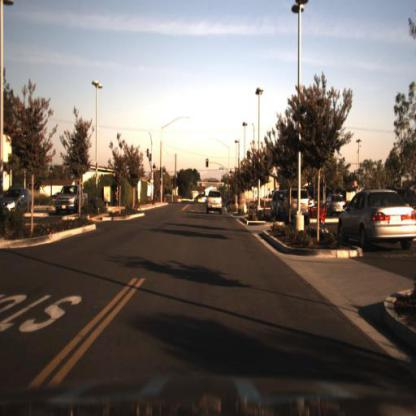car: (336, 185, 416, 251), (277, 189, 316, 231), (53, 180, 88, 212), (4, 185, 35, 218), (324, 192, 348, 219), (205, 195, 225, 220)
trafficLight-Red: (205, 158, 210, 170), (171, 175, 176, 185)
